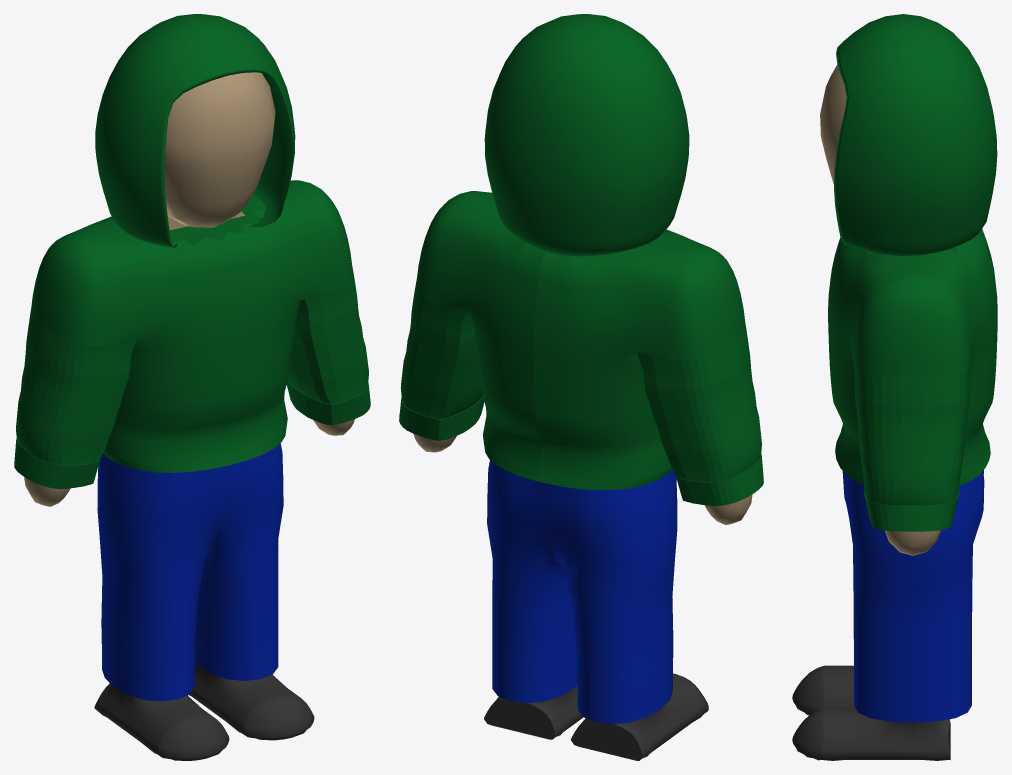
Rendered from Target 1.fbx.
3 renders of one model, left to right at view 1: azimuth 30°, elevation 25°; view 2: azimuth 150°, elevation 25°; view 3: azimuth 270°, elevation 25°, orthographic. The views are drawn at different scales.
Parts seen in each view (by area): view 1: Hoodie, Pants, Target1, R_Shoe, L_Shoe, R_Arm; view 2: Hoodie, Pants, R_Shoe, L_Shoe, R_Arm; view 3: Hoodie, Pants, L_Shoe, R_Shoe, Target1, L_Arm.
Boxes of the visible parts, x1,y1,x2,y2 form: Hoodie: (14, 14, 370, 489); Pants: (97, 443, 283, 701); Target1: (164, 72, 275, 230); R_Shoe: (94, 683, 229, 760); L_Shoe: (189, 664, 314, 740); R_Arm: (24, 477, 70, 506); Hoodie: (399, 14, 763, 506); Pants: (487, 460, 677, 724); R_Shoe: (570, 673, 708, 760); L_Shoe: (484, 685, 583, 739); R_Arm: (704, 494, 752, 524); Hoodie: (828, 14, 997, 531); Pants: (842, 470, 984, 722); L_Shoe: (792, 708, 950, 760); R_Shoe: (792, 665, 854, 715); Target1: (820, 64, 846, 183); L_Arm: (885, 530, 940, 555).
Bounding box in the file's own units: 3.21 × 6.2 × 1.65.
